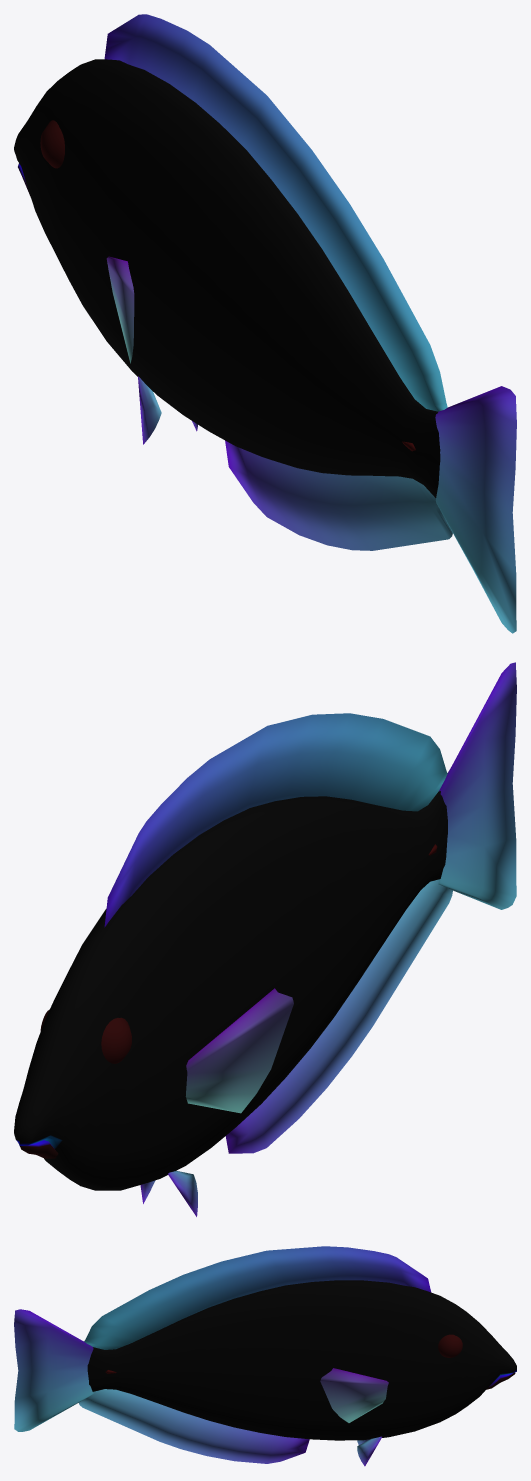
The model's file is blue_tang_game.glb.
The picture shows the model from 3 angles, top to bottom: view 1: azimuth 30°, elevation 25°; view 2: azimuth 150°, elevation 25°; view 3: azimuth 270°, elevation 25°; orthographic projection. The views are drawn at different scales.
Visible parts, largest first — view 1: blue_tang_game; view 2: blue_tang_game; view 3: blue_tang_game.
Part boxes in pixels (bbox=[...]): blue_tang_game: bbox=[14, 14, 516, 633]; blue_tang_game: bbox=[14, 662, 516, 1216]; blue_tang_game: bbox=[14, 1246, 516, 1466].
Size of the model in its own units: 0.0452 by 0.1165 by 0.2438.
